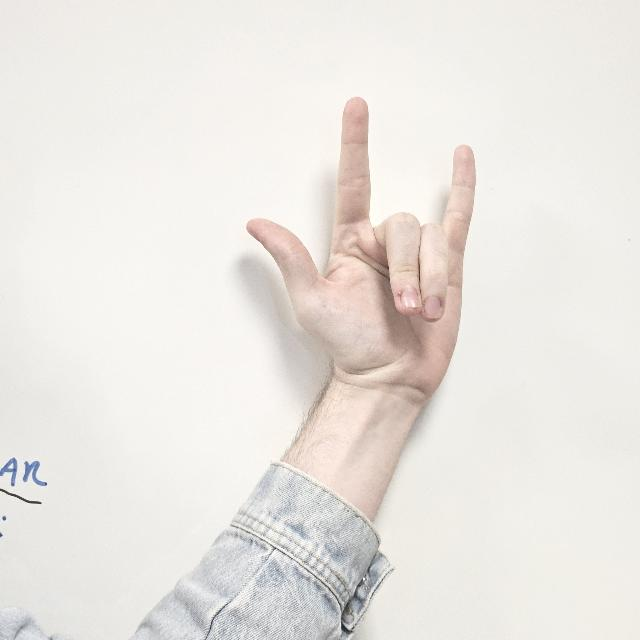Cima: (244, 94, 478, 390)
